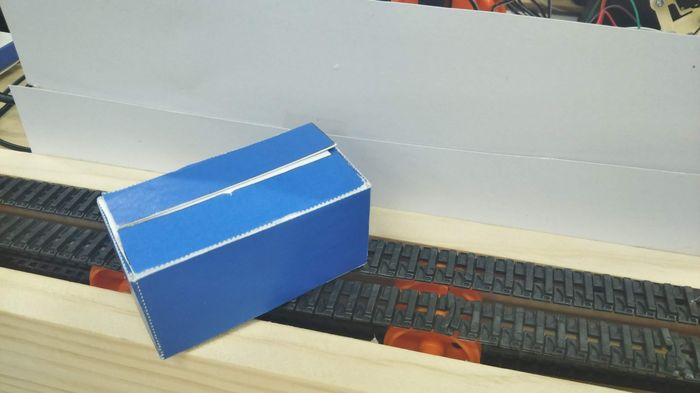box3: (92, 120, 373, 361)
